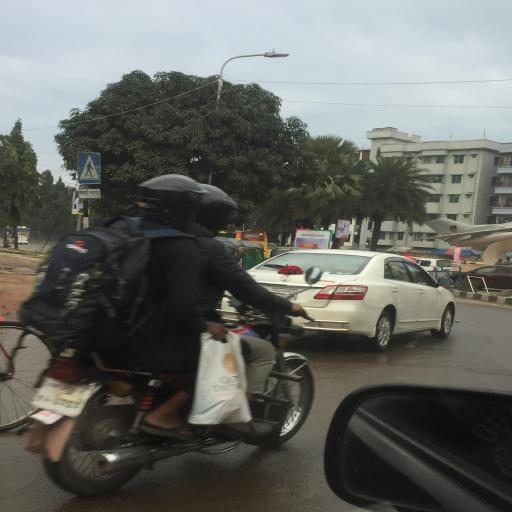car: (219, 249, 459, 353)
motorbike: (24, 301, 317, 499)
